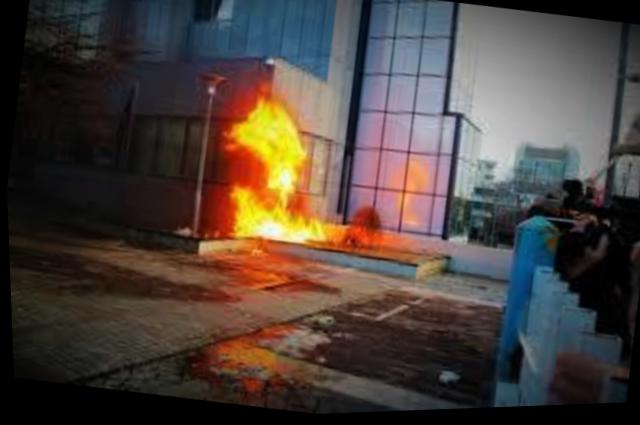fire: (191, 81, 346, 257)
